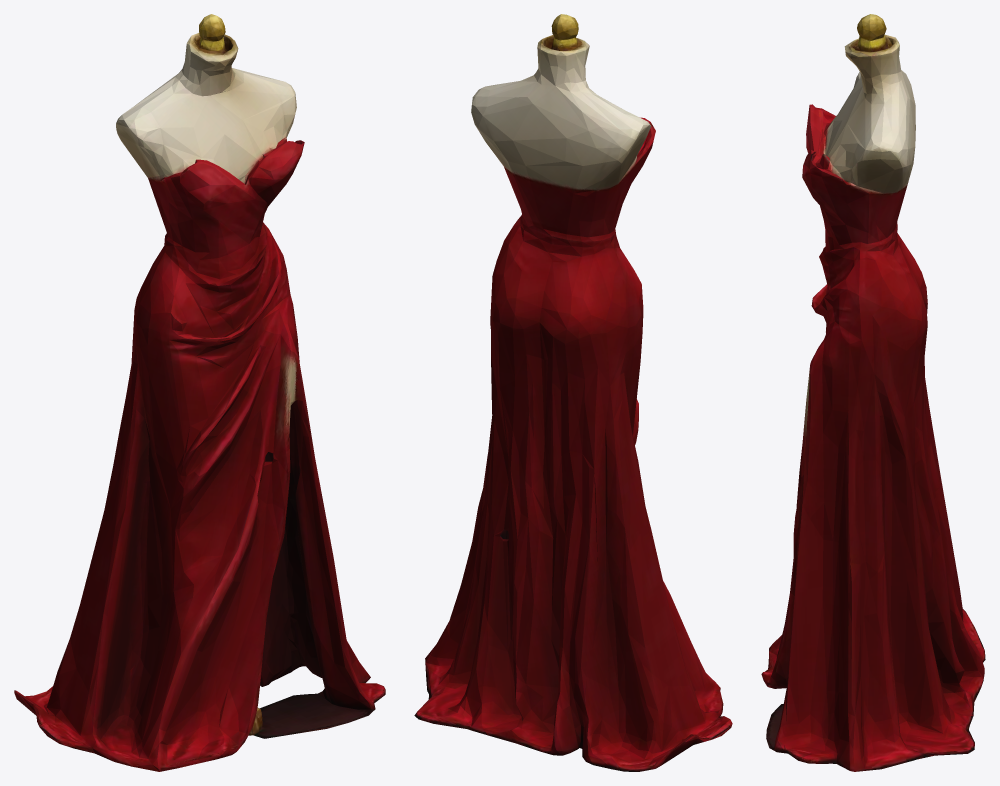
Rendered from dress_red_evening_mannequin.glb.
3 views of the same model, side by side, from view 1: azimuth 30°, elevation 25°; view 2: azimuth 150°, elevation 25°; view 3: azimuth 270°, elevation 25° (orthographic).
Visible parts, largest first — view 1: geometry_0; view 2: geometry_0; view 3: geometry_0.
Part boxes in pixels (left/top/right/bottom): geometry_0: left=14, top=14, right=385, bottom=771; geometry_0: left=414, top=14, right=732, bottom=771; geometry_0: left=761, top=14, right=985, bottom=771.
Size of the model in its own units: 0.467 by 0.9989 by 0.2943.
Materials: 1 (1 with a texture image).
